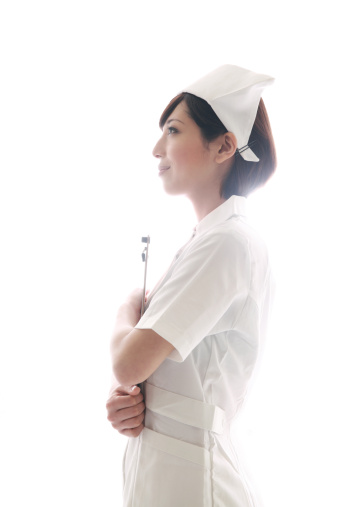em pe: (72, 69, 310, 456)
